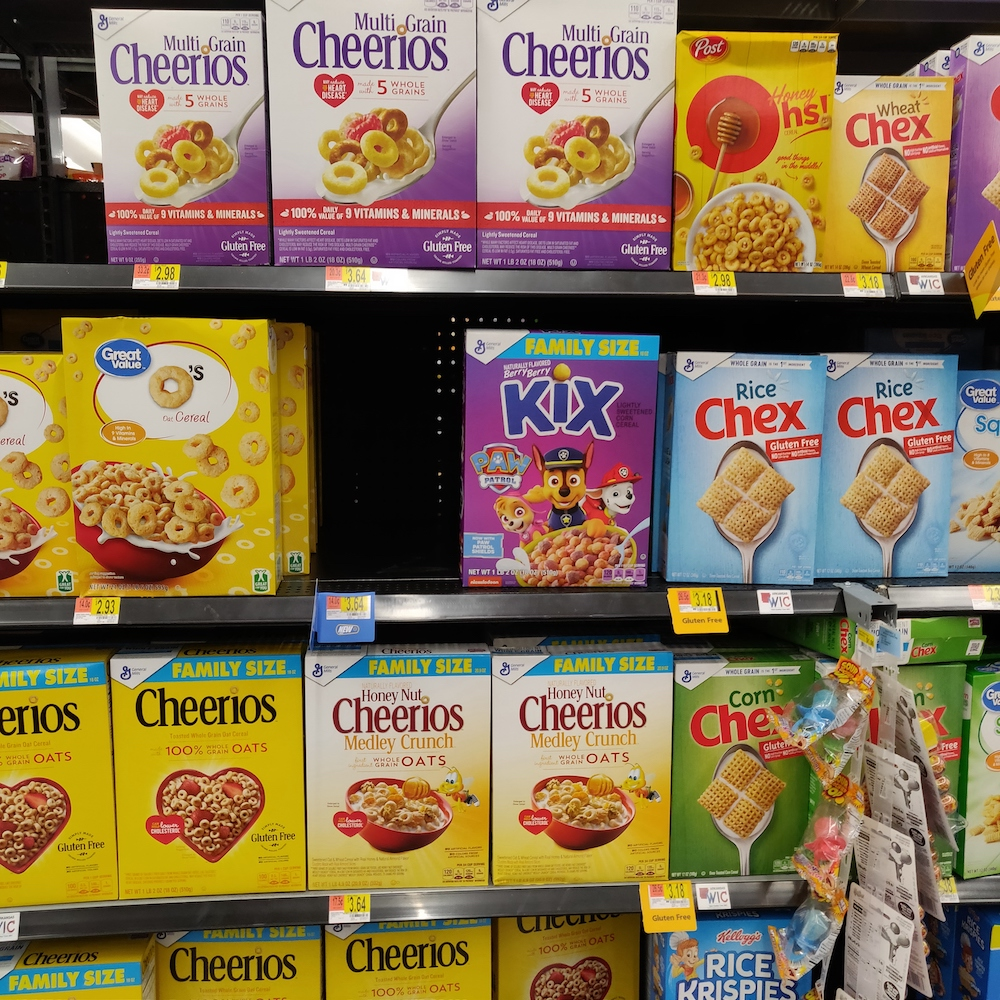Kix Berry -568919964: (475, 354, 650, 583)
